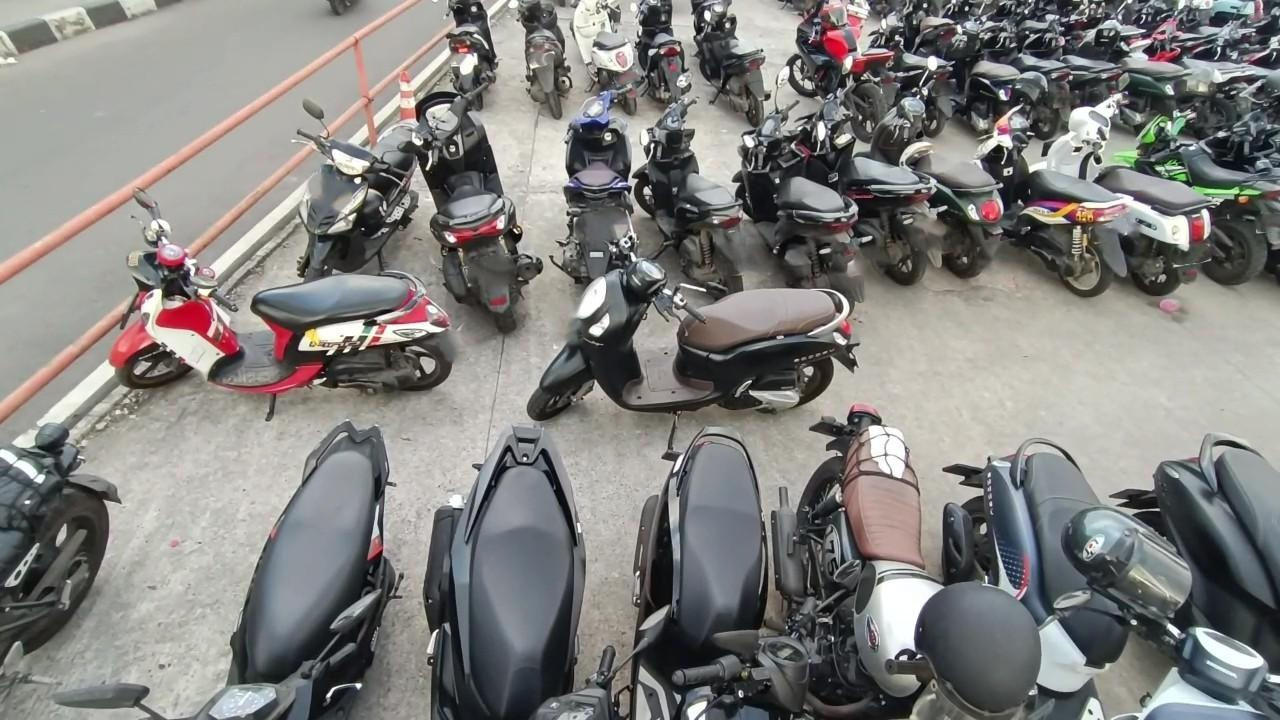motorcycle: (64, 417, 411, 720), (933, 430, 1280, 720), (771, 400, 1048, 720), (110, 183, 465, 408), (527, 196, 865, 419), (419, 425, 672, 720), (621, 421, 864, 720), (1103, 431, 1280, 685), (1029, 76, 1221, 310), (969, 66, 1131, 311), (401, 56, 539, 332), (796, 60, 940, 308), (1114, 87, 1270, 290), (873, 57, 1001, 297), (739, 69, 861, 316), (630, 73, 754, 301), (297, 94, 426, 287), (549, 89, 645, 295), (789, 4, 899, 139), (570, 0, 642, 124), (699, 0, 766, 133), (430, 0, 509, 107), (508, 0, 575, 125), (636, 0, 695, 117)
